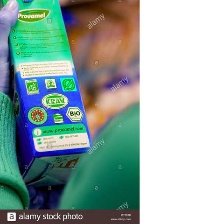carton: (0, 0, 95, 191)
